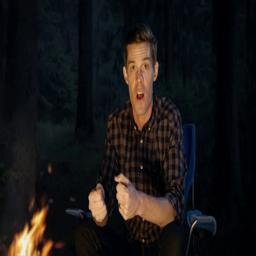fire: (8, 205, 54, 256)
